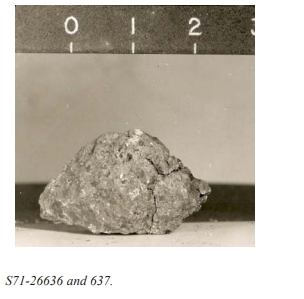Breccia: (32, 121, 231, 242)
